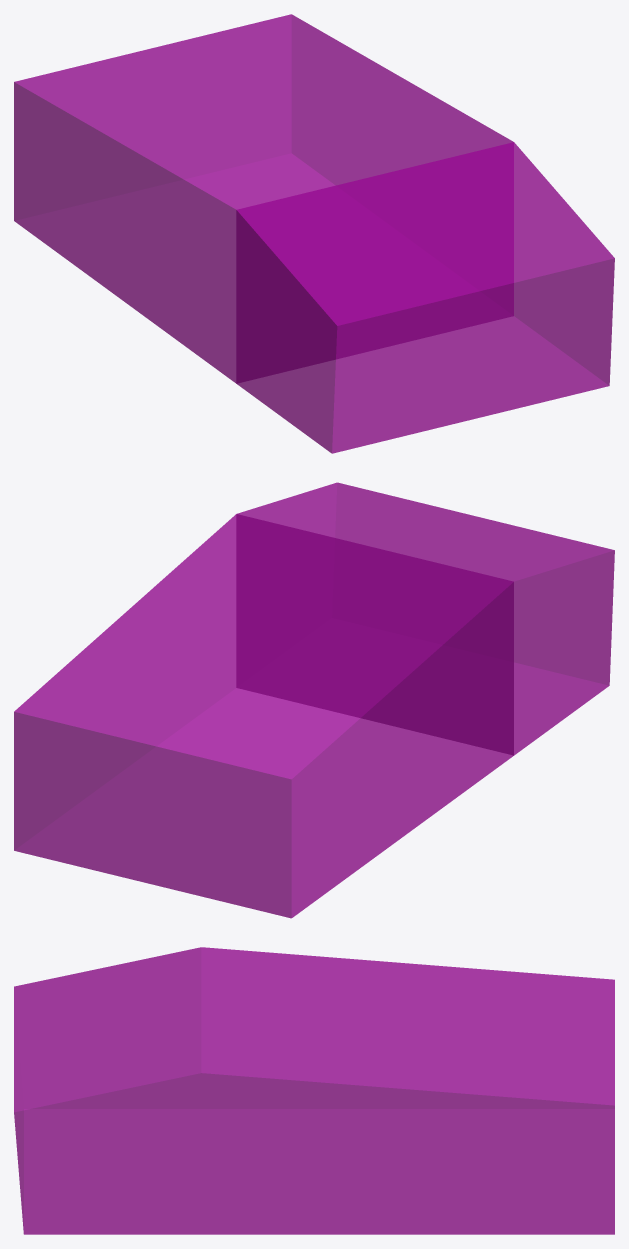
Rendered from SM_Veh_Ship_01_Fairing_Collision.fbx.
The picture shows the model from 3 angles, top to bottom: view 1: azimuth 30°, elevation 25°; view 2: azimuth 150°, elevation 25°; view 3: azimuth 270°, elevation 25°; orthographic projection. The views are drawn at different scales.
Parts seen in each view (by area): view 1: SM_Veh_Ship_01_Fairing_Collision; view 2: SM_Veh_Ship_01_Fairing_Collision; view 3: SM_Veh_Ship_01_Fairing_Collision.
Boxes of the visible parts, box(x1,y1,x2,y2) form: SM_Veh_Ship_01_Fairing_Collision: box(14, 14, 614, 453); SM_Veh_Ship_01_Fairing_Collision: box(14, 482, 614, 918); SM_Veh_Ship_01_Fairing_Collision: box(14, 947, 614, 1234).
Bounding box in the file's own units: 2182 × 1307 × 4401.
